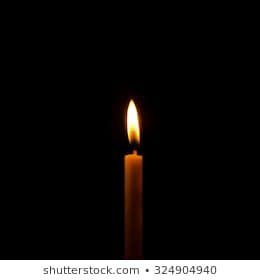fire: (125, 96, 142, 148)
